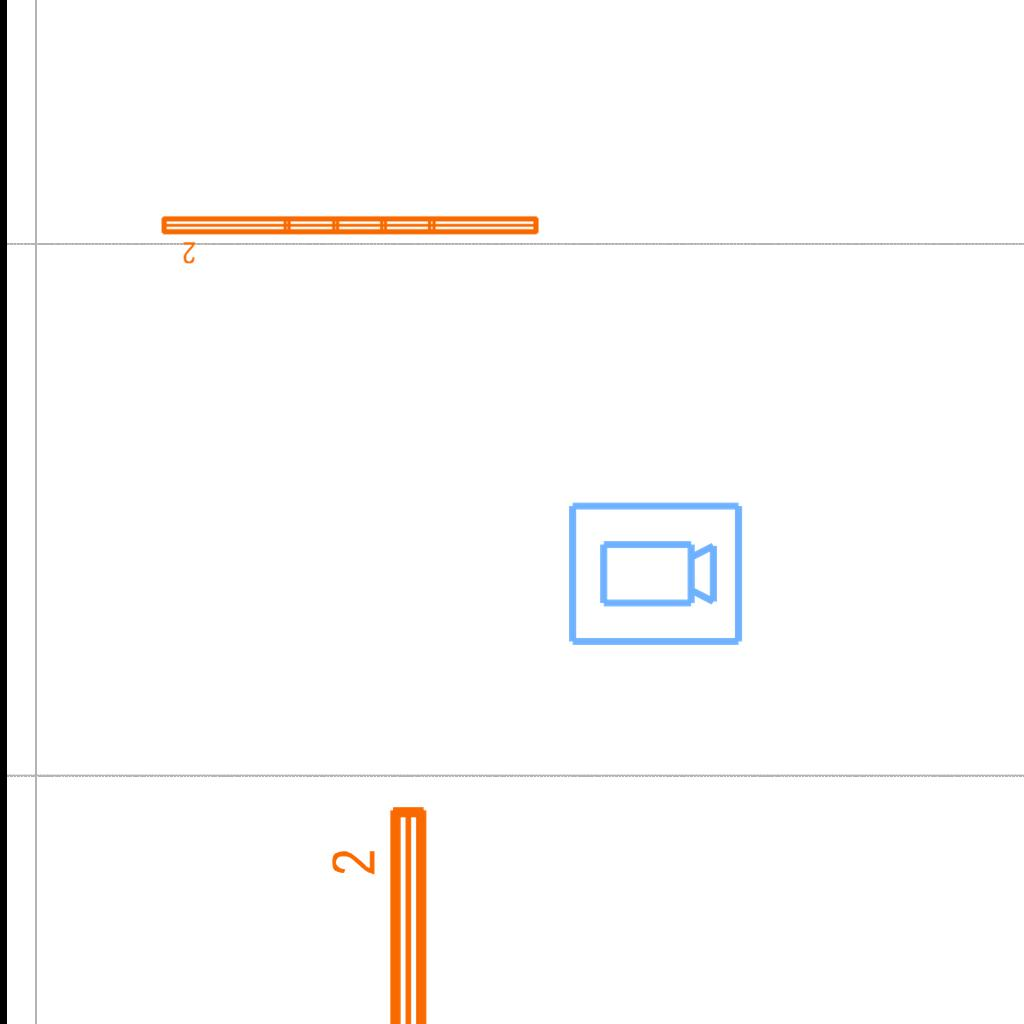Ambulanz_Pendelleuchte_LED: (327, 798, 439, 1024), (157, 210, 544, 266)
KFO_Kamera_mit_Festobjektiv: (564, 498, 746, 652)
